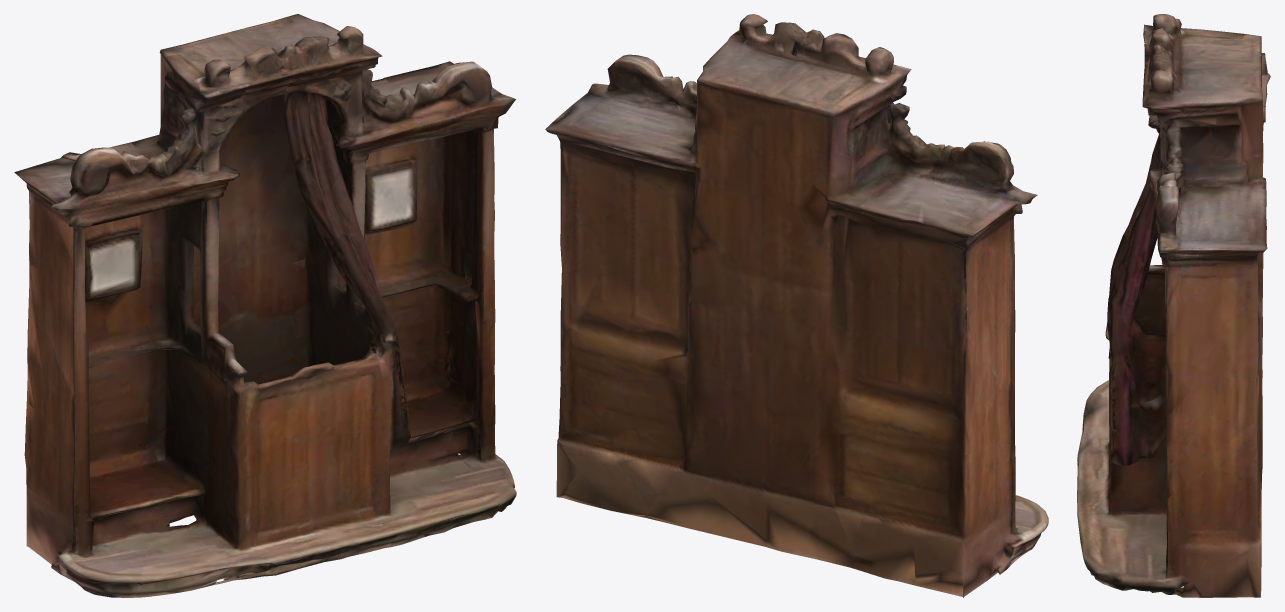
File: confessional.glb
3 views of the same model, side by side, from view 1: azimuth 30°, elevation 25°; view 2: azimuth 150°, elevation 25°; view 3: azimuth 270°, elevation 25° (orthographic). The views are drawn at different scales.
Visible parts, largest first — view 1: Object_4; view 2: Object_4; view 3: Object_4.
Part boxes in pixels (x1,y1,x2,y2): Object_4: (14, 14, 516, 597); Object_4: (545, 14, 1048, 597); Object_4: (1077, 14, 1270, 597).
Bounding box in the file's own units: 1.95 × 1.99 × 0.7616.
Materials: 1 (1 with a texture image).
